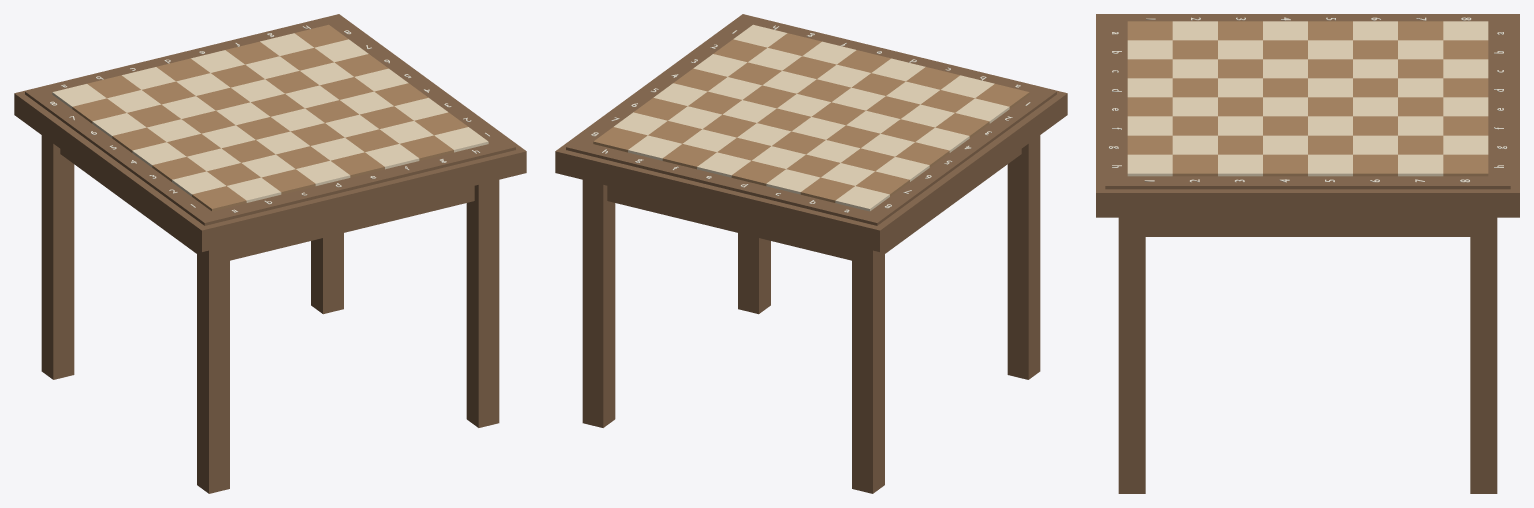
The model's file is board.gltf.
3 views of the same model, side by side, from view 1: azimuth 30°, elevation 25°; view 2: azimuth 150°, elevation 25°; view 3: azimuth 270°, elevation 25° (orthographic). The views are drawn at different scales.
Parts seen in each view (by area): view 1: board; view 2: board; view 3: board.
Part boxes in pixels (x1,y1,x2,y2): board: (14,14,526,493); board: (555,14,1067,493); board: (1096,14,1519,493).
Size of the model in its own units: 0.94 by 0.775 by 0.94.
